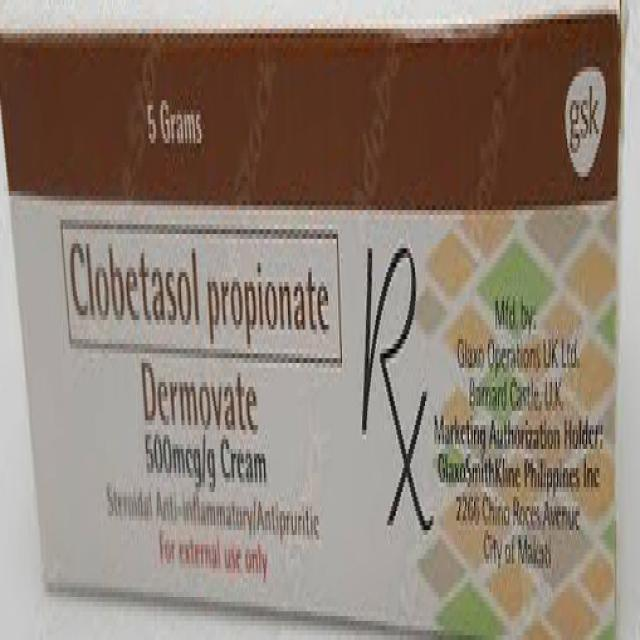drug-name: (137, 357, 263, 438)
